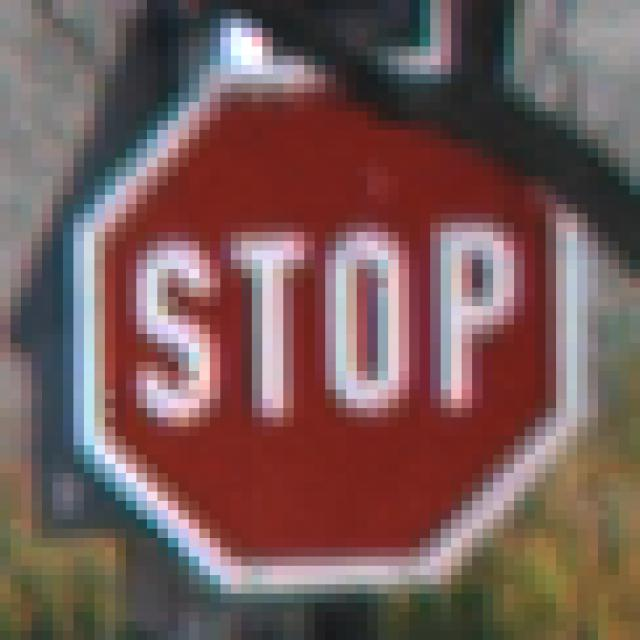STOP: (64, 57, 588, 585)
